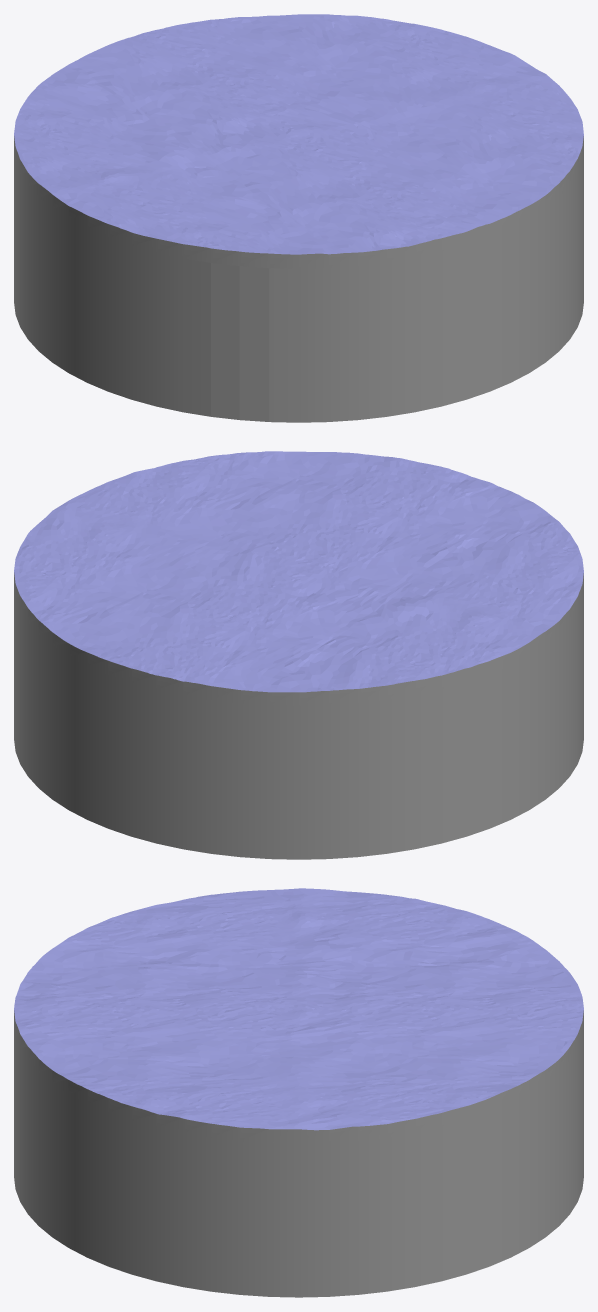
The model's file is ocean_sample_B_25k.fbx.
3 views of the same model, one above another, from view 1: azimuth 30°, elevation 25°; view 2: azimuth 150°, elevation 25°; view 3: azimuth 270°, elevation 25° (orthographic).
Parts seen in each view (by area): view 1: ocean_sample_B_25k_top, ocean_sample_B_25k_bottom; view 2: ocean_sample_B_25k_top, ocean_sample_B_25k_bottom; view 3: ocean_sample_B_25k_top, ocean_sample_B_25k_bottom.
Boxes of the visible parts, left/top/right/bottom form: ocean_sample_B_25k_top: left=14, top=14, right=583, bottom=268; ocean_sample_B_25k_bottom: left=14, top=150, right=583, bottom=422; ocean_sample_B_25k_top: left=14, top=451, right=583, bottom=705; ocean_sample_B_25k_bottom: left=14, top=587, right=583, bottom=859; ocean_sample_B_25k_top: left=14, top=888, right=583, bottom=1143; ocean_sample_B_25k_bottom: left=14, top=1025, right=583, bottom=1297.
Size of the model in its own units: 5489 by 1808 by 5489.
